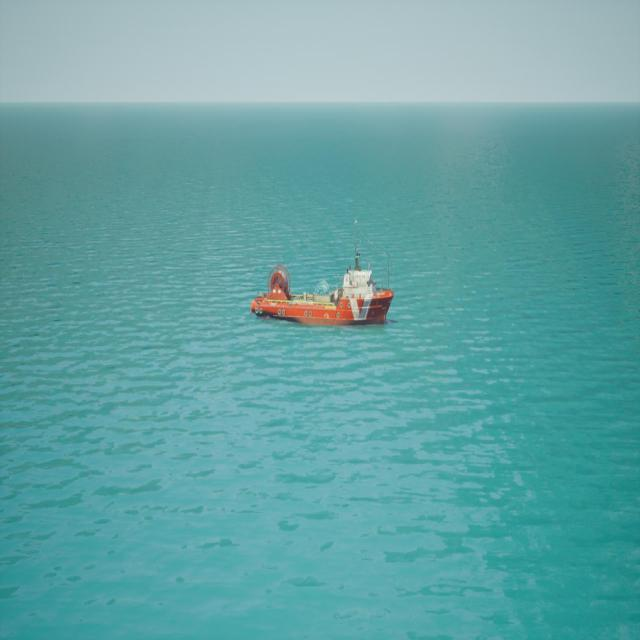tug boat: (245, 261, 399, 331)
